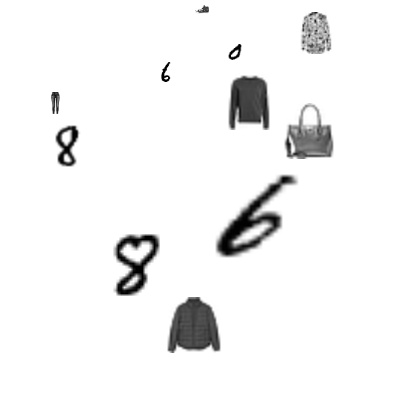0: (224, 41, 246, 63)
6: (193, 164, 305, 276), (151, 59, 179, 87)
8: (93, 220, 177, 304), (38, 116, 94, 172)
Bag: (281, 103, 337, 159)
Coat: (166, 297, 222, 353)
Pullover: (221, 74, 277, 130)
Shirt: (295, 12, 337, 54)
Sneaker: (195, 2, 209, 16)
Trouser: (44, 92, 66, 114)
